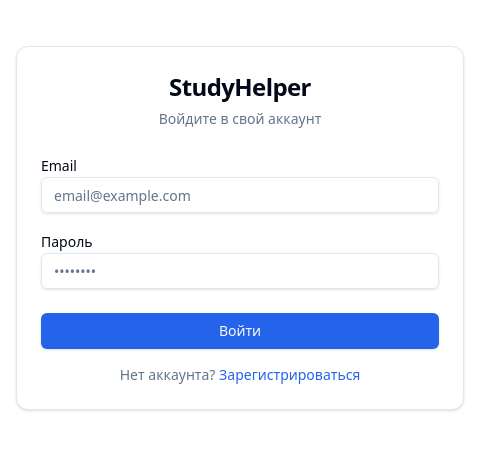
Scenario: LoginPage › shows error message on failed login
Type "bad@example.com" into the field labelled "Email" at point(240, 195), box [41,177,439,213]
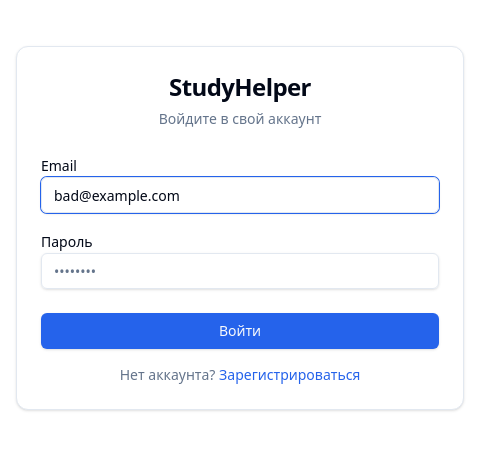
Type "wrongpass" into the password field labelled "Пароль" at point(240, 271), box [41,253,439,289]
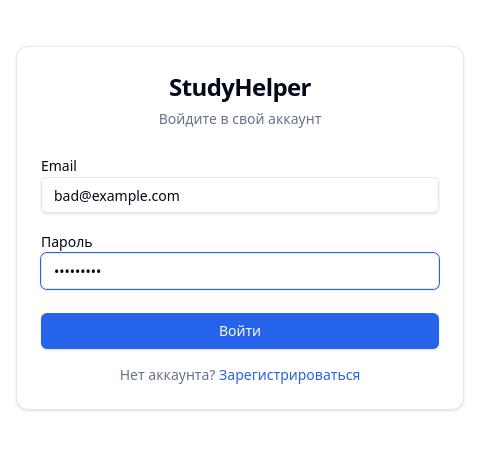
Click the button "Войти" at point(240, 331), box [41,313,439,349]
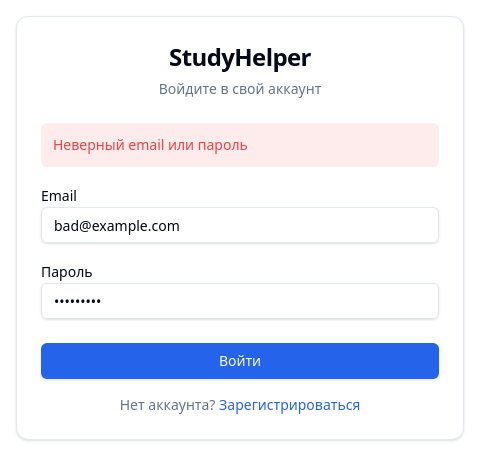
Result: the text "Неверный email или пароль" is shown at [41,123,439,167]
